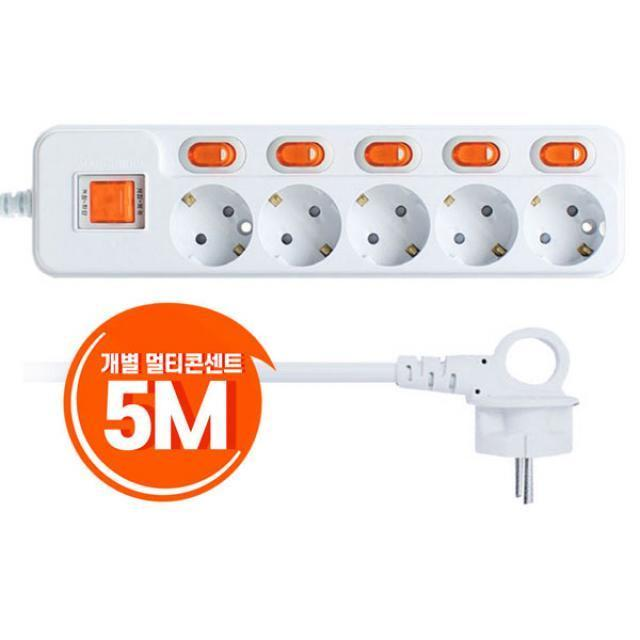typeb: (33, 113, 626, 305)
